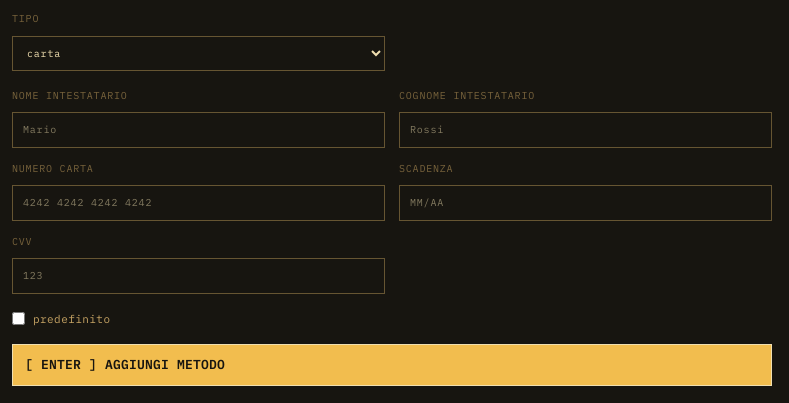
it: PaymentMethodForm › le opzioni non carta spiegano che si salvano solo le carte
The width and height of the screenshot is (789, 403).
Select "paypal" in the dropdown labelled "tipo" at (198, 53), box [12, 36, 385, 70]
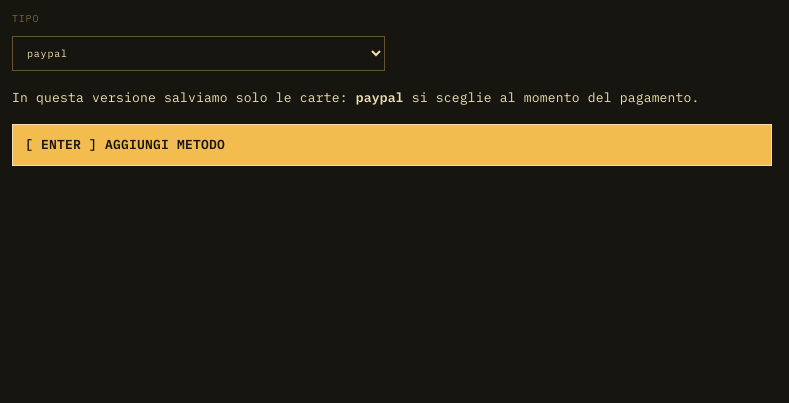
Check: the text "solo le carte" is shown, box [12, 88, 356, 106]
Check: the button "[ enter ] aggiungi metodo" is disabled, box [12, 124, 772, 166]
